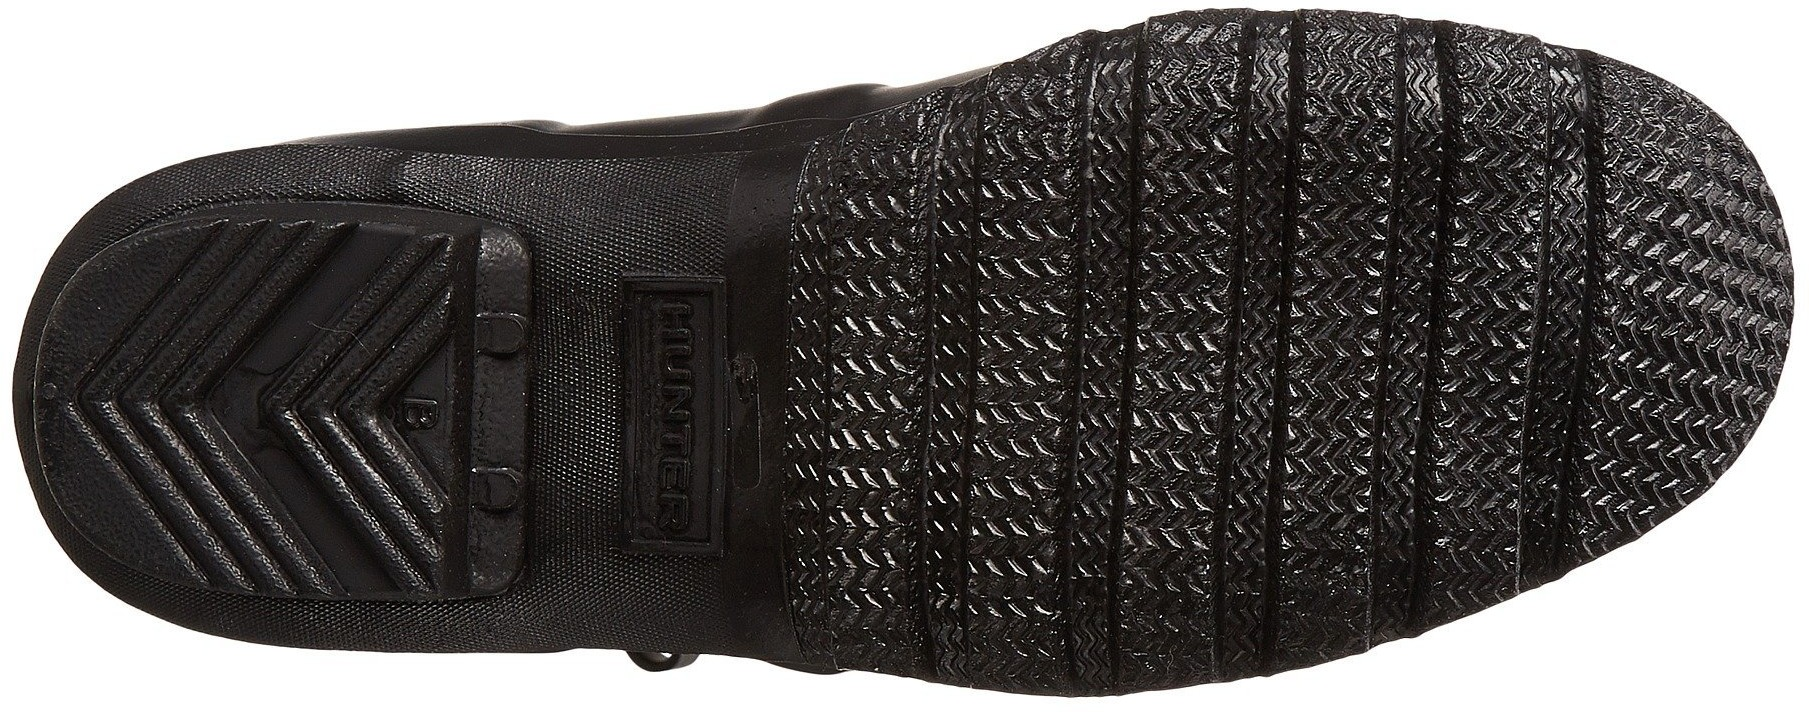chevron: (1199, 70, 1611, 542), (816, 153, 1183, 504), (103, 268, 444, 580), (943, 508, 1124, 673), (1621, 197, 1792, 370)
exclude: (524, 649, 936, 702)
quad: (607, 260, 743, 565)
text: (640, 288, 710, 535), (398, 394, 443, 439)
